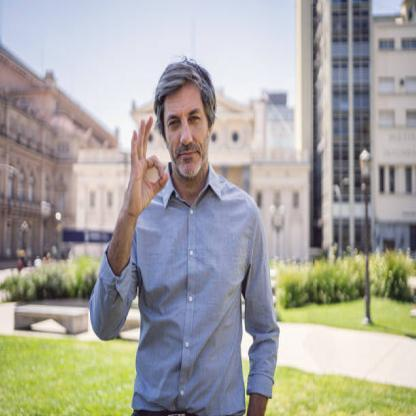ok: (123, 112, 170, 218)
